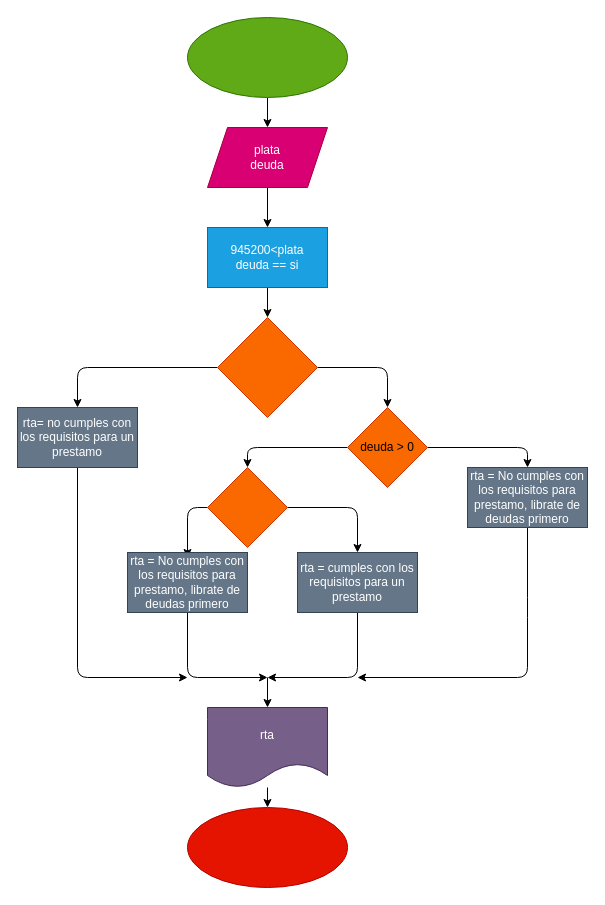
The diagram is 605 pixels wide and 905 high, and some of its shapes have lost their labels. Here are the shapes that lost their labels. From the top down, the centre of each, then its label:
point 267,57: inicio
point 267,367: plata>9452000
point 247,507: deuda == 0
point 267,847: Fin
